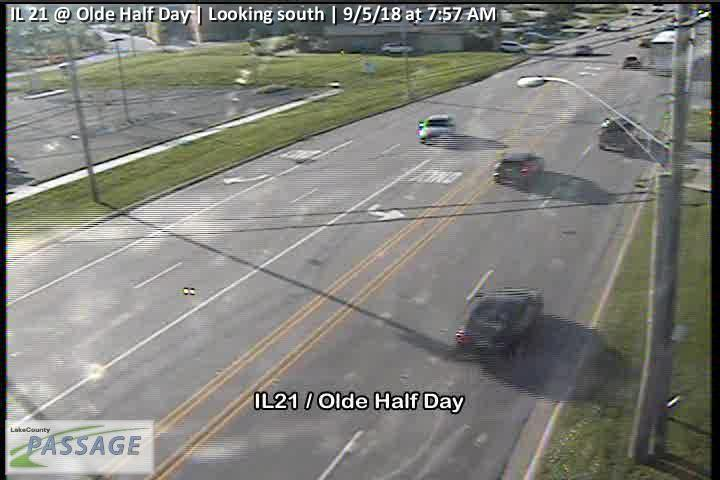SUV: (492, 151, 545, 189), (598, 114, 642, 153)
Sedan: (453, 287, 542, 359), (417, 114, 456, 144)
